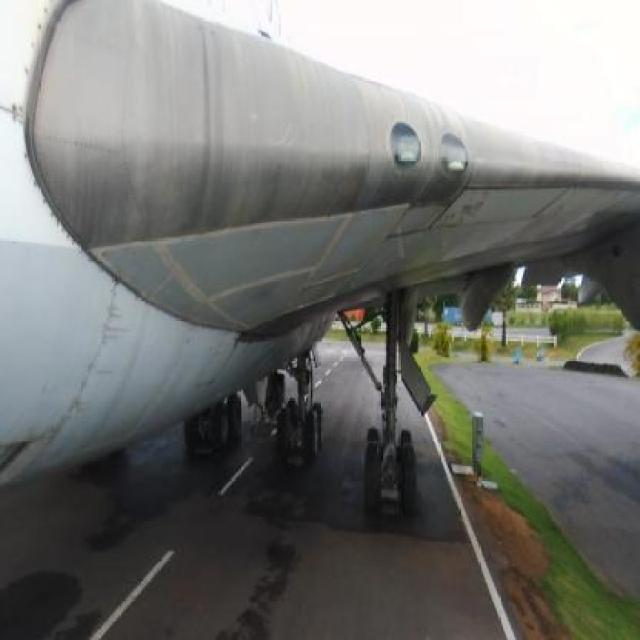Missing-Rivet: (61, 284, 121, 428)
Scartch: (450, 190, 498, 238)
